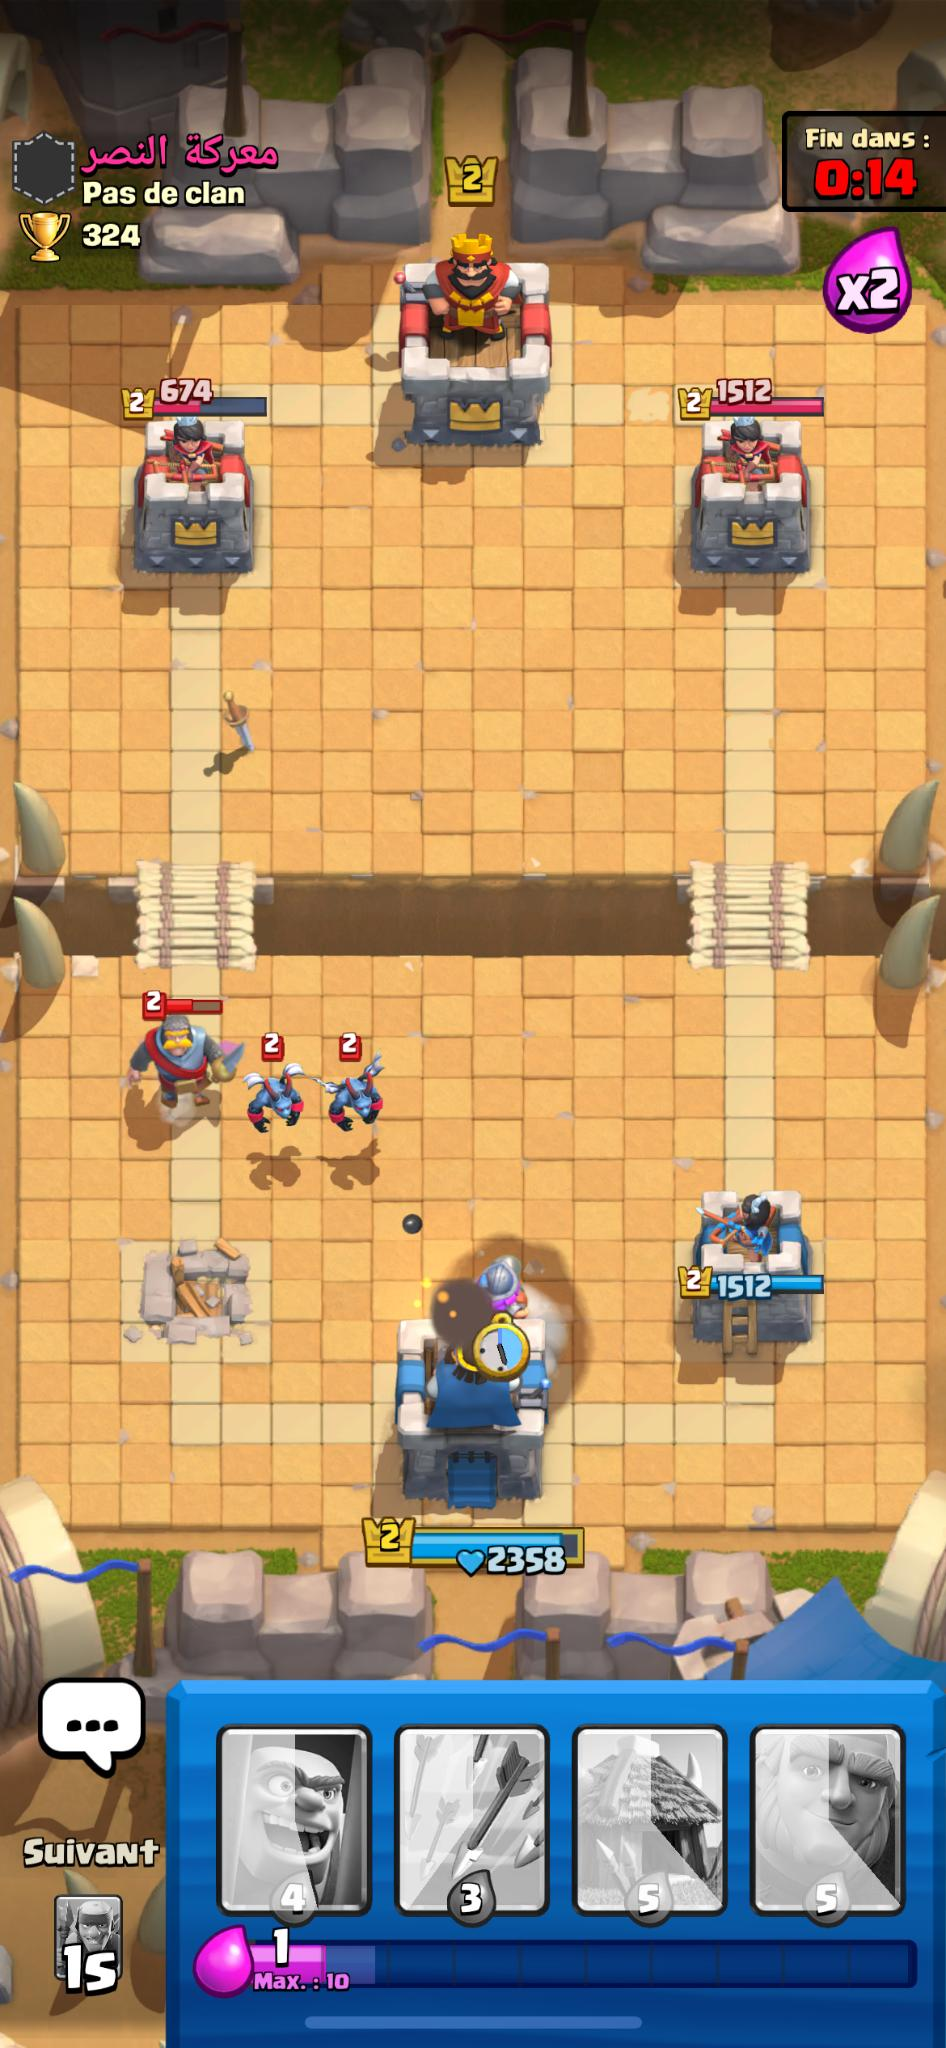chevalier: (120, 998, 247, 1159)
gargouille: (323, 1037, 401, 1152), (239, 1033, 299, 1144)
